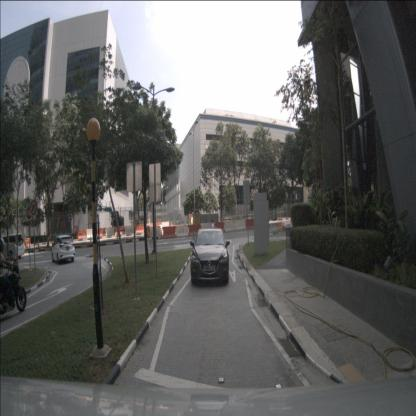human-pedestrian-adult: (211, 219, 216, 242)
movable_object-barrier: (149, 226, 161, 240), (163, 226, 177, 238), (188, 224, 200, 237), (223, 221, 237, 232), (176, 225, 188, 237), (124, 226, 136, 237), (201, 225, 213, 236), (115, 226, 124, 239), (236, 220, 246, 231), (96, 228, 106, 238), (213, 223, 224, 232), (104, 228, 115, 237), (134, 225, 144, 234), (246, 219, 255, 229), (78, 230, 87, 239), (86, 229, 94, 239), (24, 238, 31, 247), (162, 222, 169, 230), (155, 222, 162, 230), (146, 225, 150, 238)
movable_object-trafficcone: (160, 230, 163, 239)
vehicle-car: (190, 228, 229, 285), (0, 233, 25, 261), (52, 236, 76, 264)
vehicle-motorcycle: (0, 237, 27, 322)
